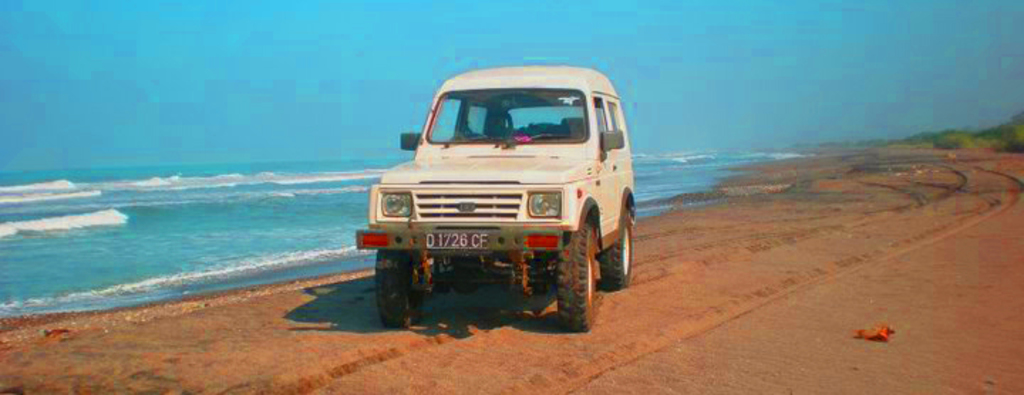Car: (349, 61, 644, 328)
